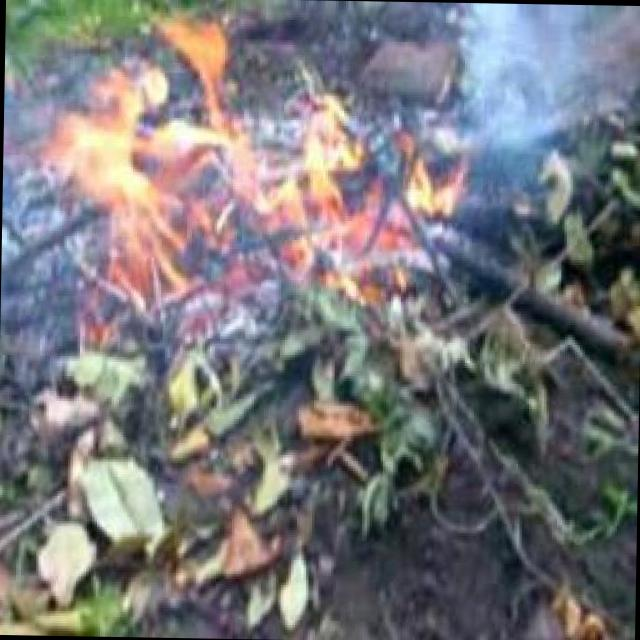Fire: (36, 17, 414, 296)
